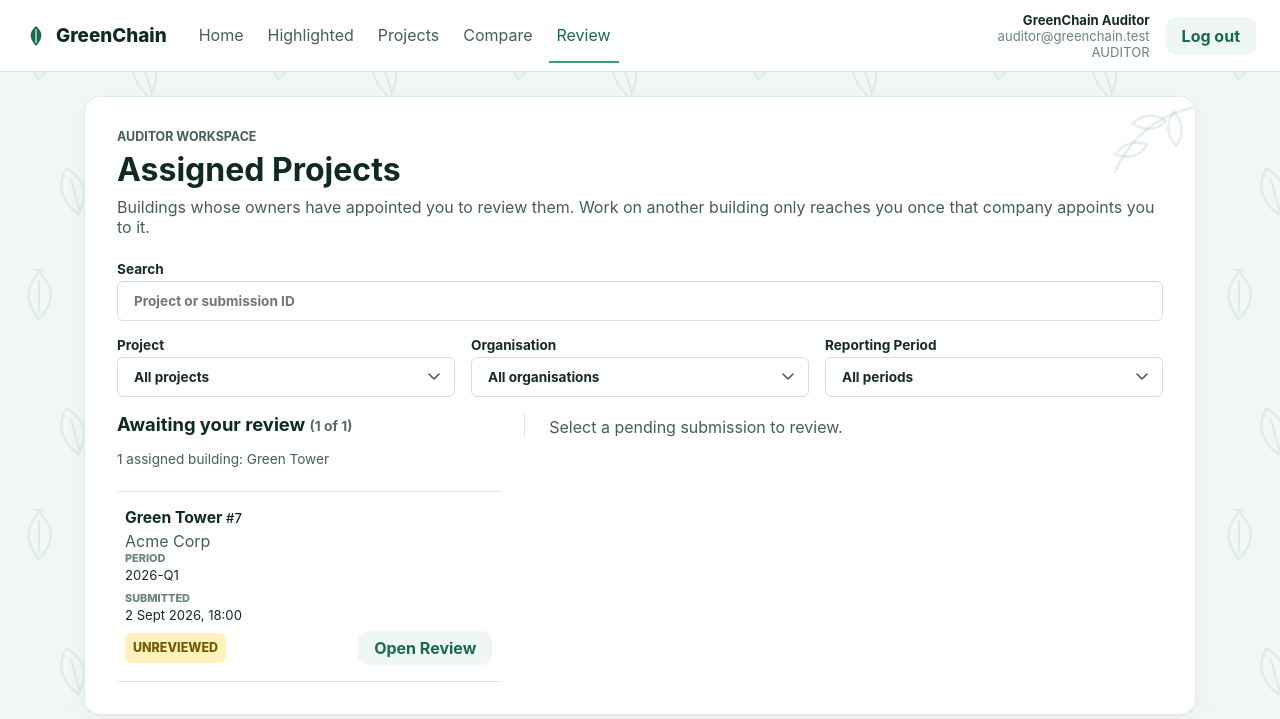
Test: auditor review workflow › auditor can open detail with processed metrics and evidence actions
The width and height of the screenshot is (1280, 719).
Check: the heading "Assigned Projects" is shown, box [117, 150, 401, 189]
Click the button "Open Review": [425, 648] box [358, 631, 492, 665]
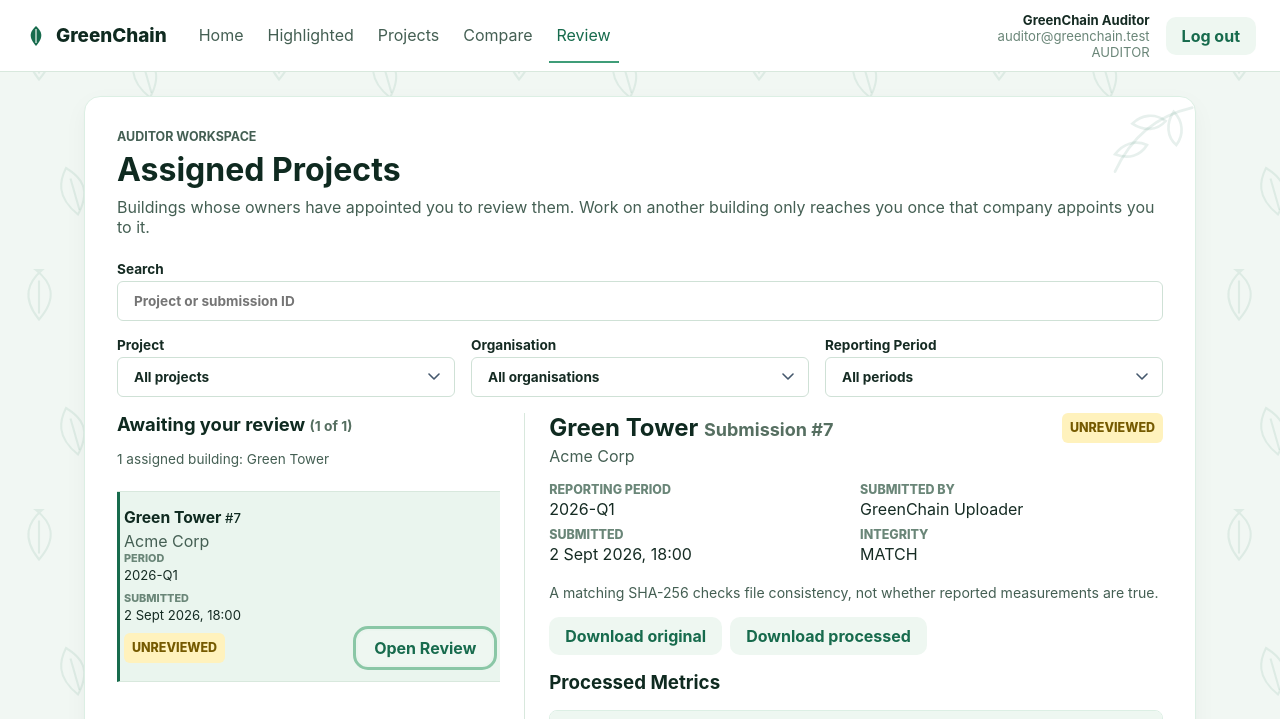
Check: the heading "Green Tower Submission #7" is shown, box [549, 413, 833, 442]
Check: the text "MATCH" is shown, box [860, 544, 918, 564]
Check: the button "Download original" is shown, box [549, 617, 722, 655]
